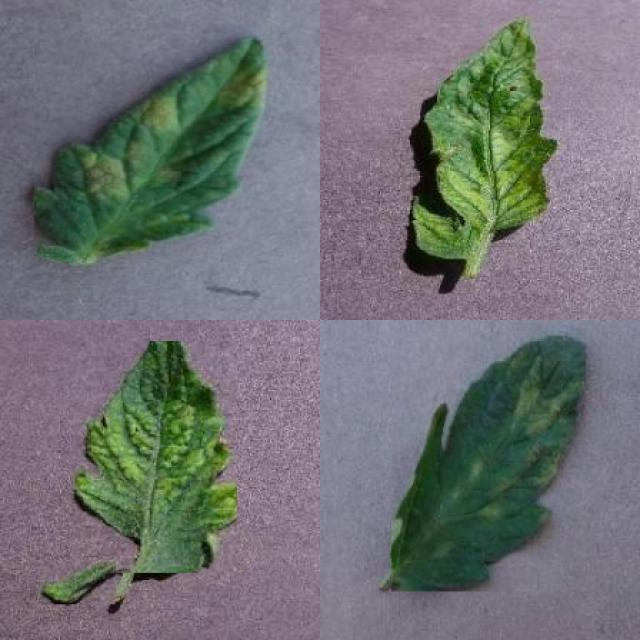Leaf Mold: (35, 35, 268, 264), (391, 334, 586, 592)
Mosaic Virus: (70, 340, 237, 573), (407, 14, 559, 263), (36, 560, 116, 604)
